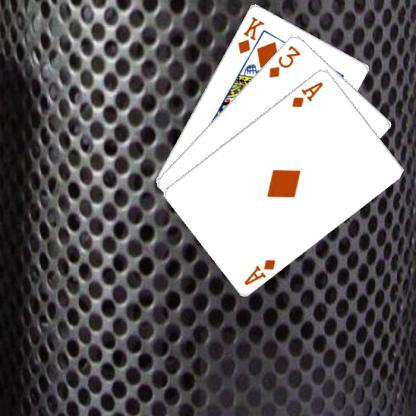3D: (266, 42, 302, 79)
AD: (241, 256, 277, 287), (289, 78, 324, 109)
KD: (234, 14, 266, 54)
